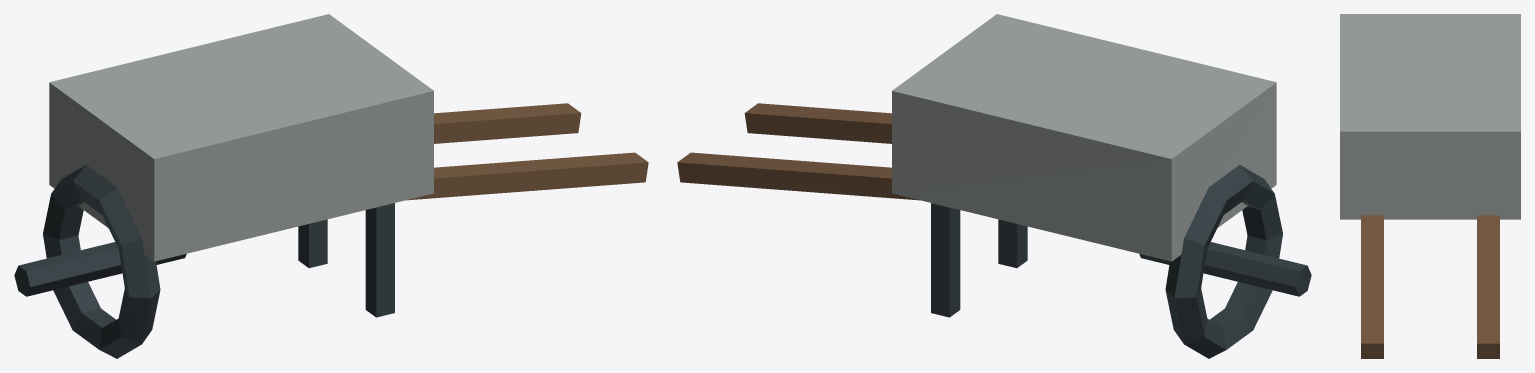
The model's file is wheelbarrow.source.glb.
The picture shows the model from 3 angles, left to right: view 1: azimuth 30°, elevation 25°; view 2: azimuth 150°, elevation 25°; view 3: azimuth 270°, elevation 25°; orthographic projection. The views are drawn at different scales.
Visible parts, largest first — view 1: wheelbarrow-empty-faceted-tray-mesh, wheelbarrow-slender-timber-handle-mesh (×2), wheelbarrow-single-wheel-mesh, wheelbarrow-support-leg-mesh (×2), wheelbarrow-wheel-axle-mesh; view 2: wheelbarrow-empty-faceted-tray-mesh, wheelbarrow-slender-timber-handle-mesh (×2), wheelbarrow-single-wheel-mesh, wheelbarrow-support-leg-mesh (×2), wheelbarrow-wheel-axle-mesh; view 3: wheelbarrow-empty-faceted-tray-mesh, wheelbarrow-slender-timber-handle-mesh (×2).
Part boxes in pixels (box(x1,y1,x2,y2)): wheelbarrow-empty-faceted-tray-mesh: box(49, 14, 433, 261); wheelbarrow-slender-timber-handle-mesh (×2): box(406, 103, 648, 200); wheelbarrow-single-wheel-mesh: box(43, 164, 160, 358); wheelbarrow-support-leg-mesh (×2): box(298, 203, 394, 317); wheelbarrow-wheel-axle-mesh: box(14, 242, 186, 296); wheelbarrow-empty-faceted-tray-mesh: box(892, 14, 1276, 261); wheelbarrow-slender-timber-handle-mesh (×2): box(677, 103, 919, 200); wheelbarrow-single-wheel-mesh: box(1165, 164, 1282, 358); wheelbarrow-support-leg-mesh (×2): box(931, 203, 1027, 317); wheelbarrow-wheel-axle-mesh: box(1139, 242, 1311, 296); wheelbarrow-empty-faceted-tray-mesh: box(1340, 14, 1520, 219); wheelbarrow-slender-timber-handle-mesh (×2): box(1361, 215, 1499, 358).
Bounding box in the file's own units: 2.51 × 0.93 × 0.78.
